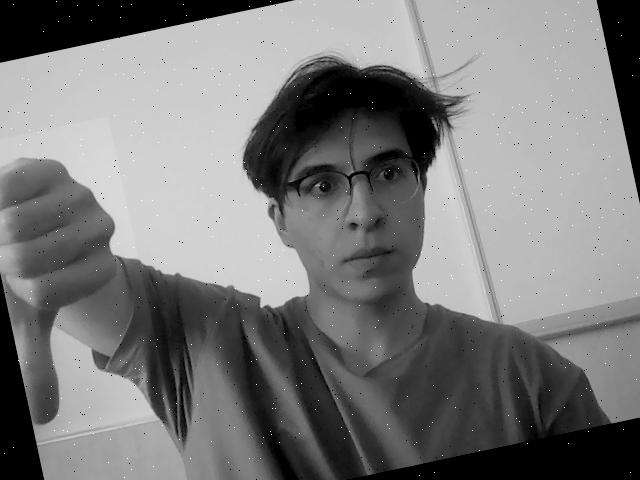bad: (0, 116, 170, 440)
